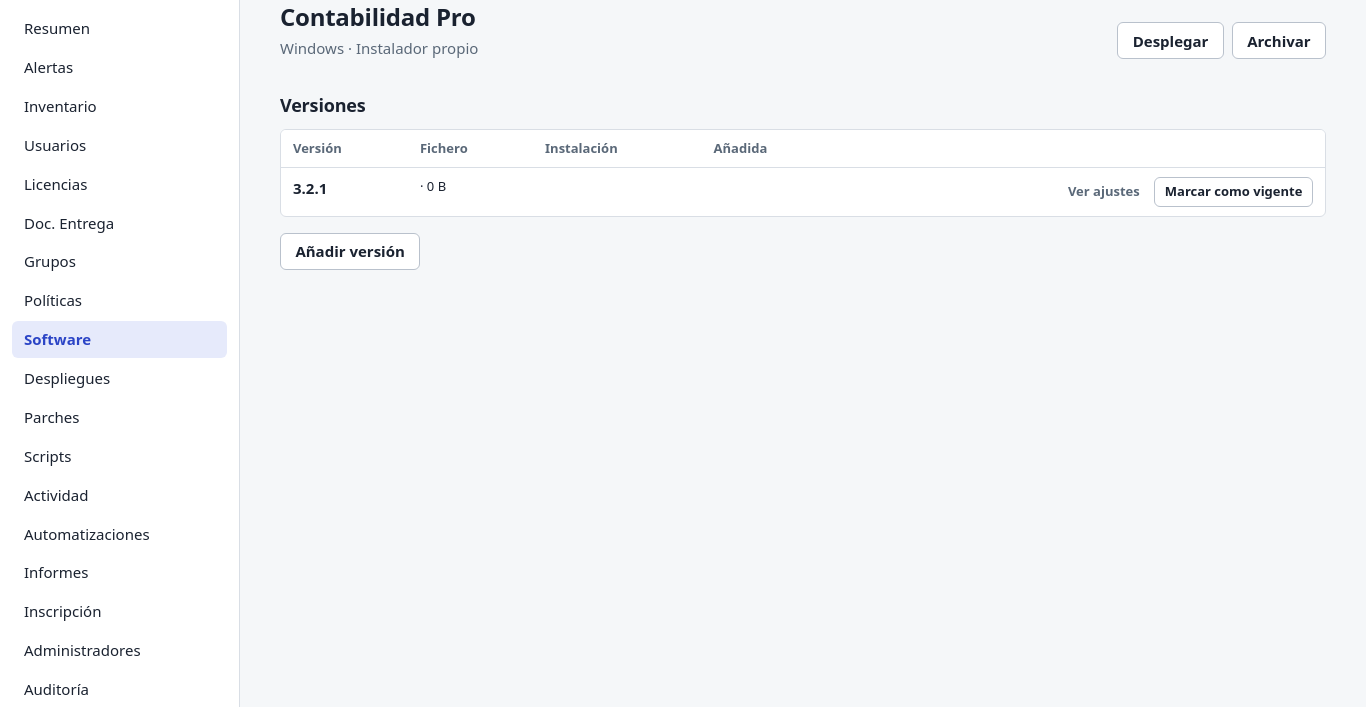
it: Versión de un instalador propio › la regla de detección cambia sus campos según el tipo
Click the button "Añadir versión". click: (350, 252)
box: [280,233,420,270]
(page scrolled)
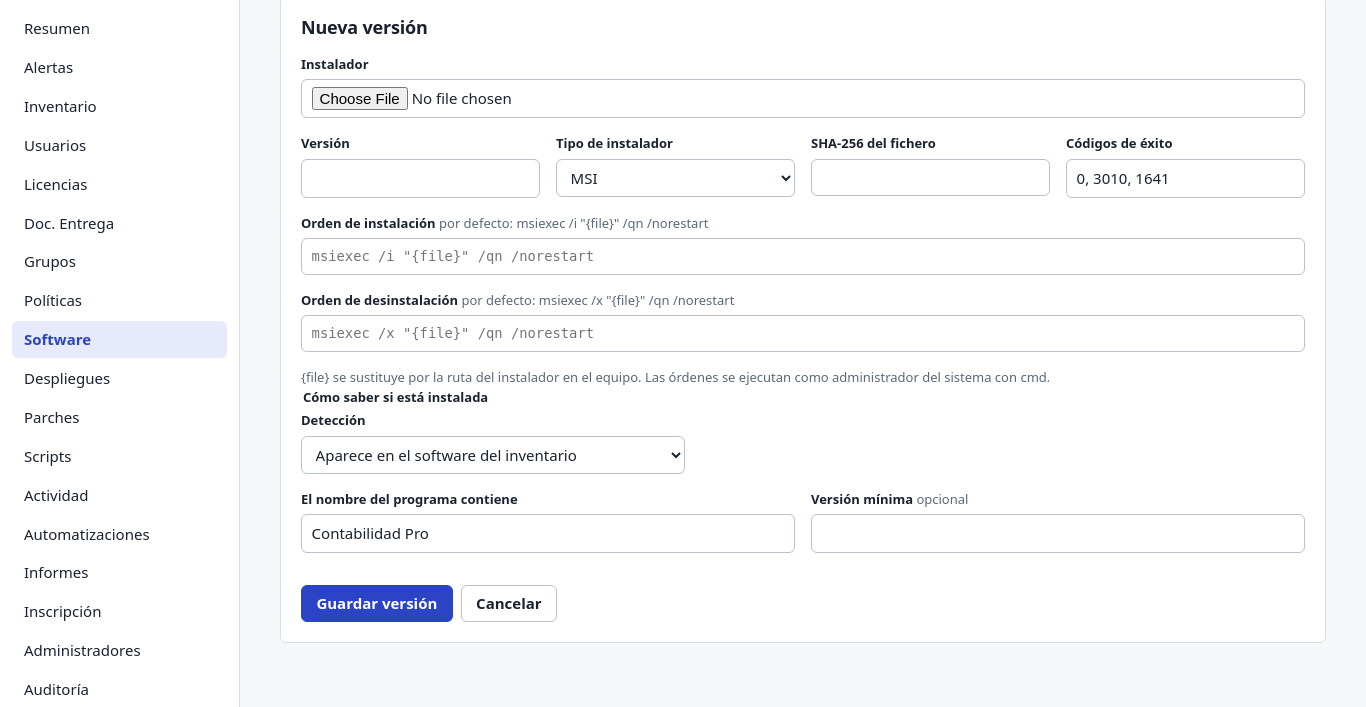
Now the field labelled "El nombre del programa contiene" is shown, box [301,514,795,553]
Select "Existe una clave del registro" in the dropdown labelled "Detección". click: (493, 455)
box: [301,436,685,474]
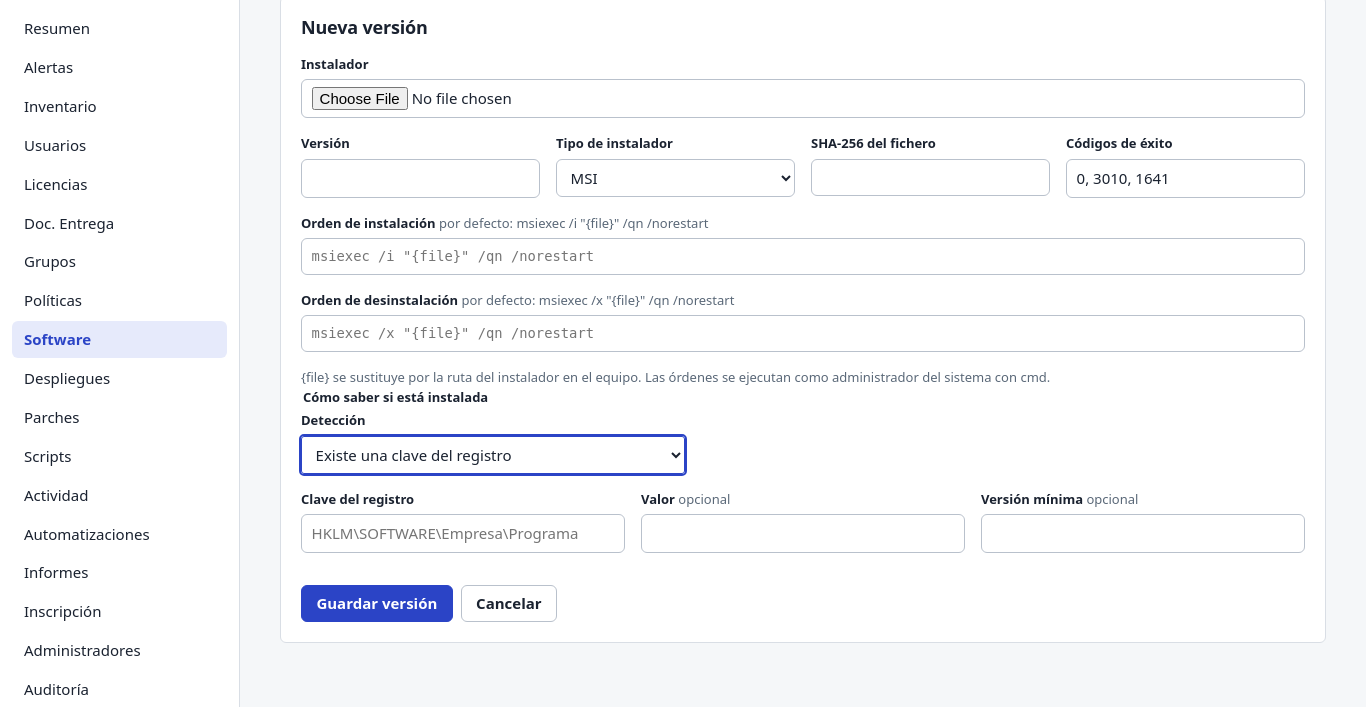
Now the field labelled "Clave del registro" is shown, box [301,514,625,553]
Now the text labelled "El nombre del programa contiene" is gone
Select "Script propio" in the dropdown labelled "Detección". click: (493, 455)
box: [301,436,685,474]
(page scrolled)
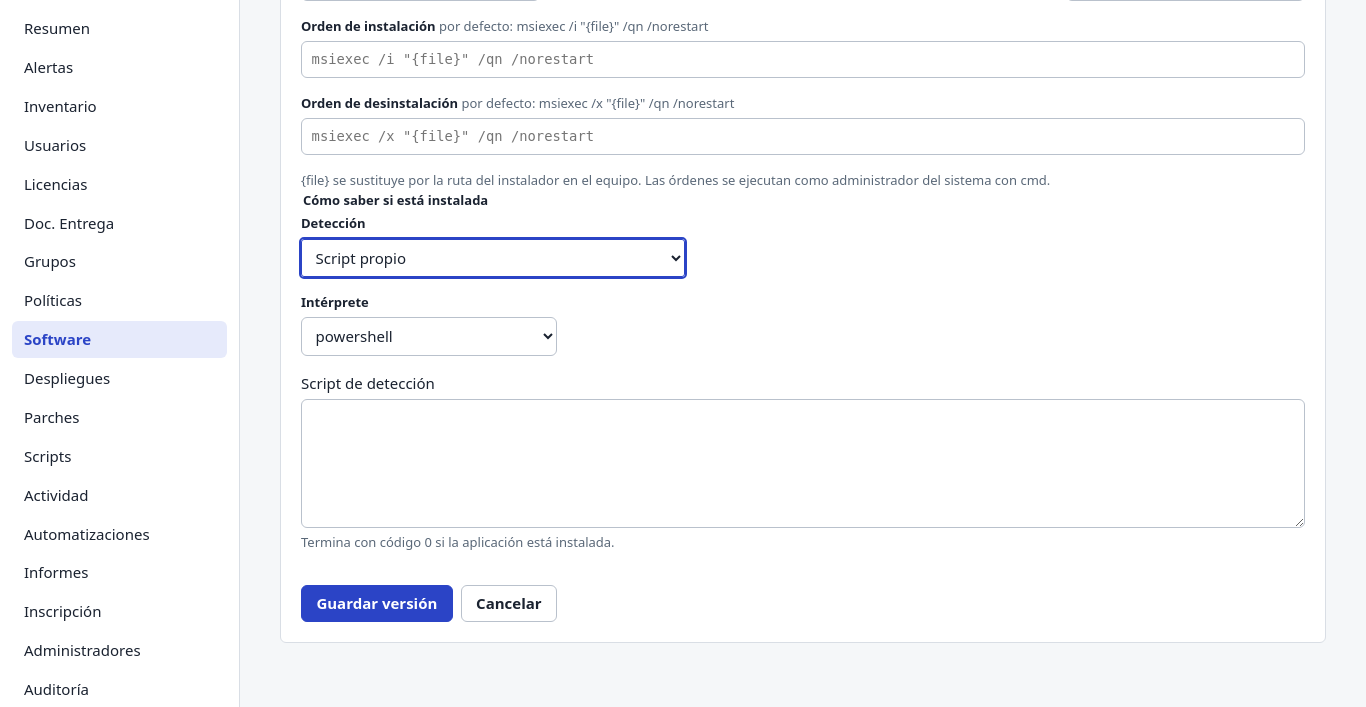
Now the text box labelled "Script de detección" is shown, box [301,399,1305,528]
